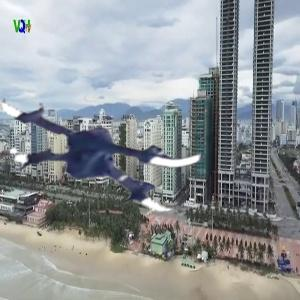drone: (2, 35, 207, 240)
